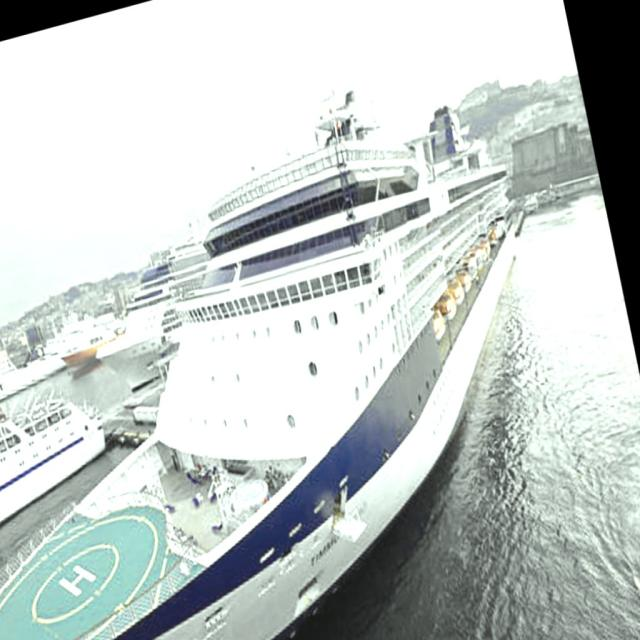helipad: (27, 540, 122, 626)
